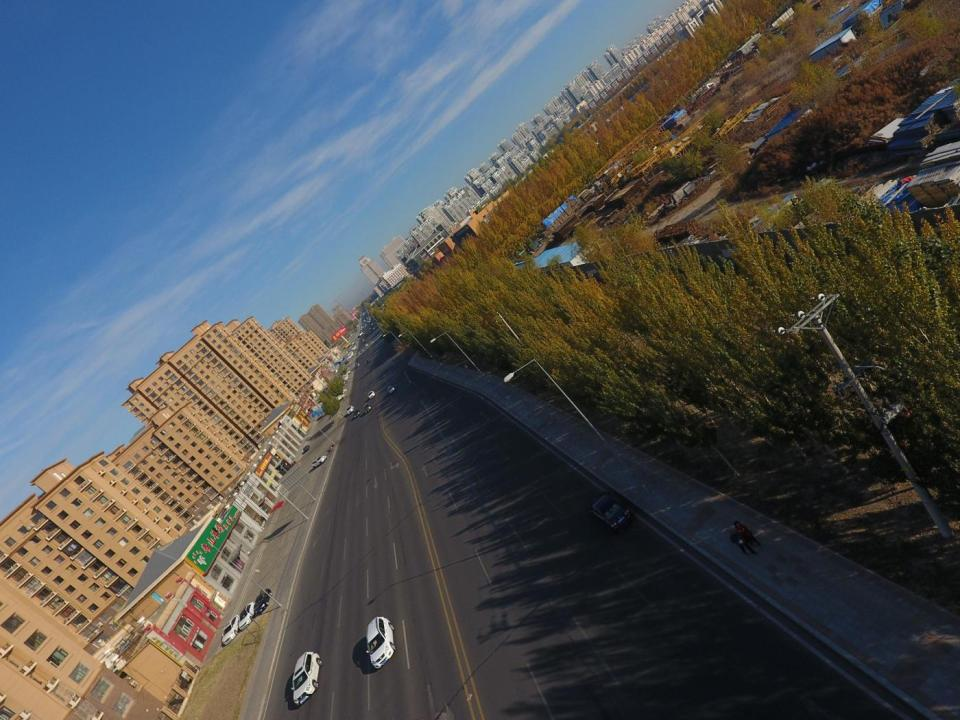car: (587, 493, 634, 534), (292, 652, 321, 706), (366, 616, 395, 668), (222, 614, 242, 646), (238, 601, 256, 631), (255, 589, 272, 614), (311, 456, 327, 468), (329, 408, 338, 418), (364, 402, 372, 412), (353, 409, 361, 418), (346, 405, 354, 414), (368, 390, 375, 399), (302, 445, 310, 452), (388, 385, 394, 393), (347, 354, 353, 360), (317, 412, 323, 417), (366, 360, 370, 364), (356, 363, 360, 367), (365, 344, 368, 347), (362, 340, 364, 344)
van: (343, 351, 348, 356), (348, 351, 353, 355)
